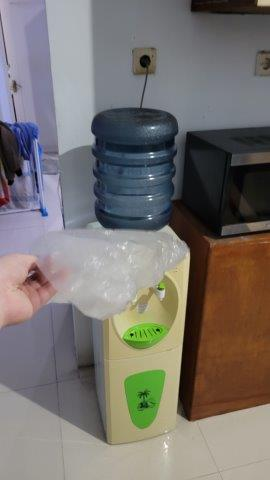plastik: (30, 224, 191, 320)
